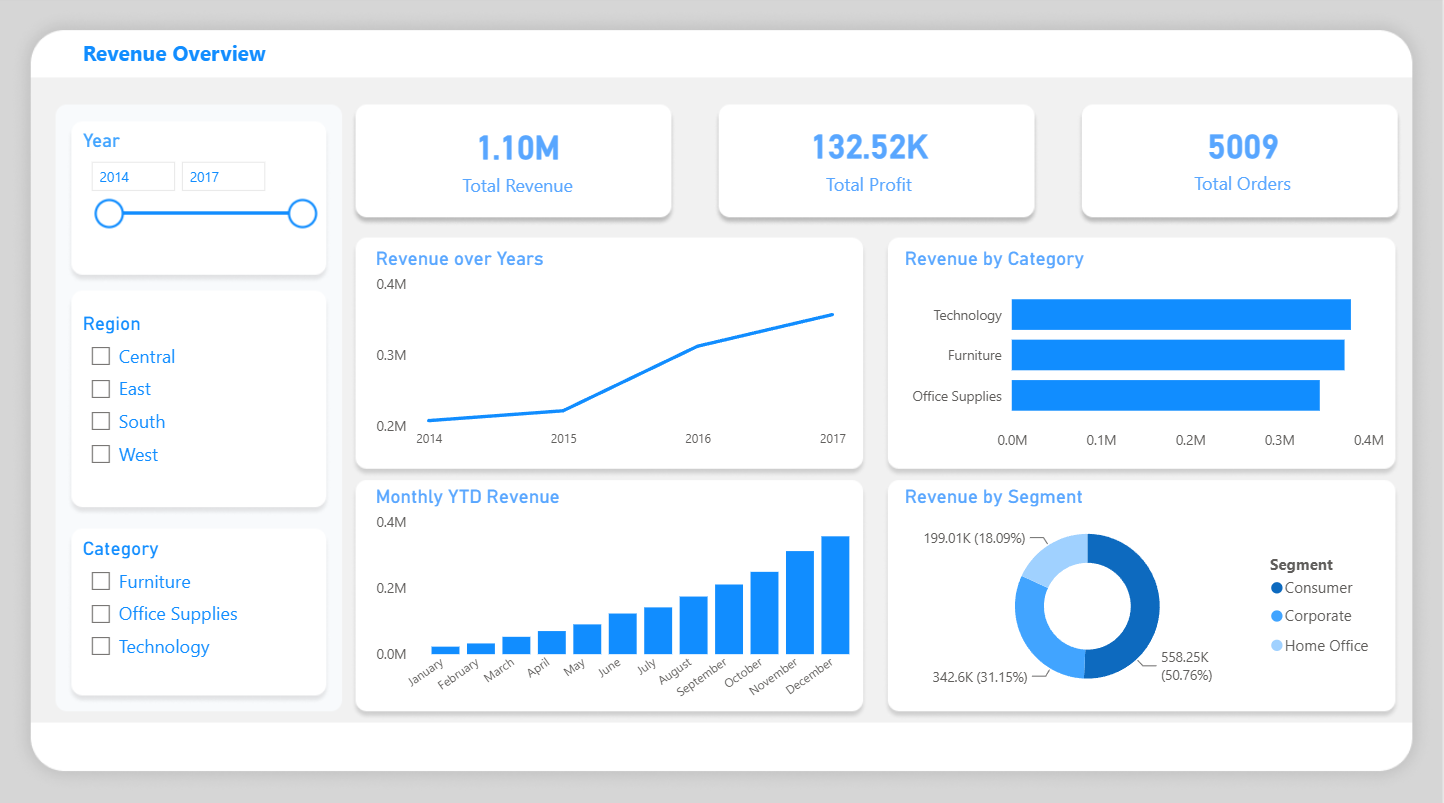

This screenshot's page, from the dashboard's own definition file:
{"tool":"powerbi","page":{"name":"Revenue Overview DM","canvas":[1280,720],"ordinal":5},"visuals":[{"type":"card","fields":{"Values":["DaxMeasures.Total Revenue"]},"box":[342,105,230,79],"z":0},{"type":"card","fields":{"Values":["DaxMeasures.Total Profit"]},"box":[662,103,227,82],"z":1000},{"type":"card","fields":{"Values":["DaxMeasures.Total Orders"]},"box":[984,108,221,76],"z":2000},{"type":"lineChart","title":"Revenue over Years","fields":{"Category":["DimDate.Date.Variation.Date Hierarchy.Year","DimDate.Date.Variation.Date Hierarchy.Month"],"Y":["DaxMeasures.Total Revenue"]},"box":[329,223,427,188],"z":3000},{"type":"clusteredBarChart","title":"Revenue by Category","fields":{"Category":["DimProduct.Category"],"Y":["DaxMeasures.Total Revenue"]},"box":[797,223,434,190],"z":4000},{"type":"clusteredColumnChart","title":"Monthly YTD Revenue","fields":{"Category":["DimDate.MonthName"],"Y":["DaxMeasures.YTD Revenue"]},"box":[325,435,435,193],"z":5000},{"type":"donutChart","title":" Revenue by Segment","fields":{"Category":["DimCustomer.Segment"],"Y":["DaxMeasures.Total Revenue"]},"box":[797,435,421,187],"z":6000},{"type":"slicer","title":"Year","fields":{"Values":["DimDate.Year"]},"box":[66,122,221,123],"z":7000},{"type":"slicer","title":"Region ","fields":{"Values":["DimRegion.Region"]},"box":[66,270,221,179],"z":8000},{"type":"slicer","title":"Category ","fields":{"Values":["DimProduct.Category"]},"box":[65.6,477.9,221.7,151.6],"z":9000},{"type":"textbox","box":[65.6,31.9,299.7,37.2],"z":10000}]}

Visuals, with their boxes in screenshot pixels (x1, y1, x2, y2), scaled from the page's 1280x720 canvas onto the 1444x803 screenshot:
card - DaxMeasures.Total Revenue: bbox=(386, 117, 645, 205)
card - DaxMeasures.Total Profit: bbox=(747, 115, 1003, 206)
card - DaxMeasures.Total Orders: bbox=(1110, 120, 1359, 205)
"Revenue over Years" lineChart: bbox=(371, 249, 853, 458)
"Revenue by Category" clusteredBarChart: bbox=(899, 249, 1389, 461)
"Monthly YTD Revenue" clusteredColumnChart: bbox=(367, 485, 857, 700)
" Revenue by Segment" donutChart: bbox=(899, 485, 1374, 694)
"Year" slicer: bbox=(74, 136, 324, 273)
"Region " slicer: bbox=(74, 301, 324, 501)
"Category " slicer: bbox=(74, 533, 324, 702)
textbox: bbox=(74, 36, 412, 77)
